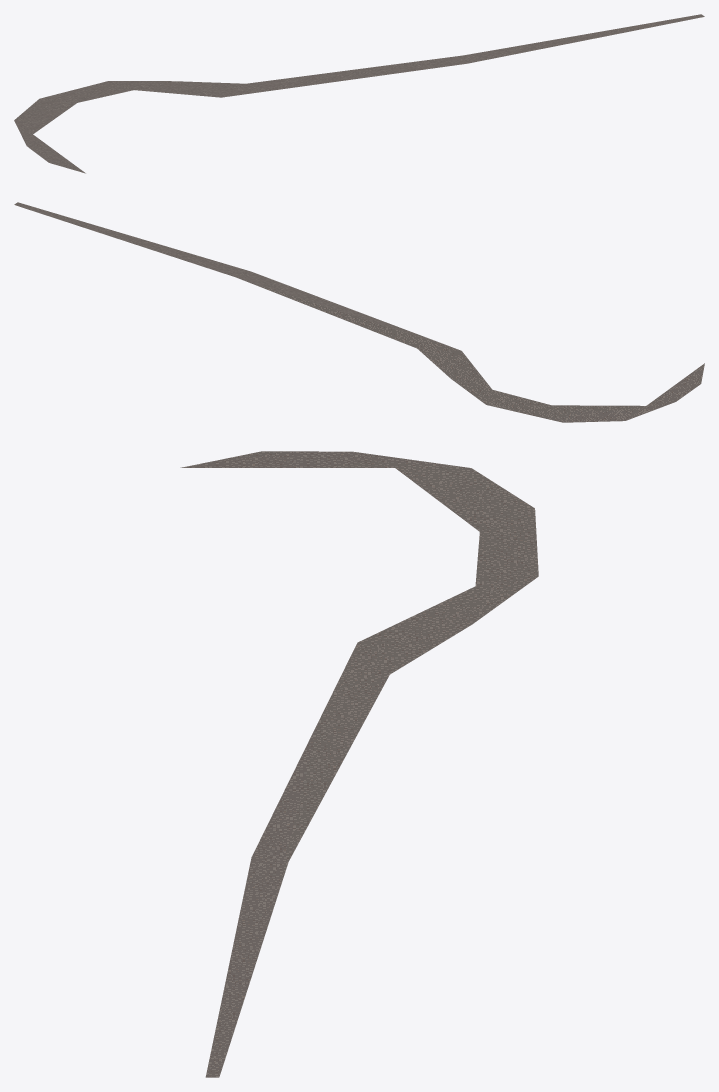
The model's file is kd_stage_135c43_4_139_bounded_piece_2.glb.
3 views of the same model, one above another, from view 1: azimuth 30°, elevation 25°; view 2: azimuth 150°, elevation 25°; view 3: azimuth 270°, elevation 25° (orthographic). The views are drawn at different scales.
Parts seen in each view (by area): view 1: kd_stage_135c43_4_139_bounded_piece_2; view 2: kd_stage_135c43_4_139_bounded_piece_2; view 3: kd_stage_135c43_4_139_bounded_piece_2.
Boxes of the visible parts, x1,y1,x2,y2 form: kd_stage_135c43_4_139_bounded_piece_2: [14, 14, 704, 173]; kd_stage_135c43_4_139_bounded_piece_2: [14, 202, 704, 422]; kd_stage_135c43_4_139_bounded_piece_2: [180, 451, 538, 1077].
Bounding box in the file's own units: 4.16 × 0.0015 × 1.01.
1 material, 1 textured.
